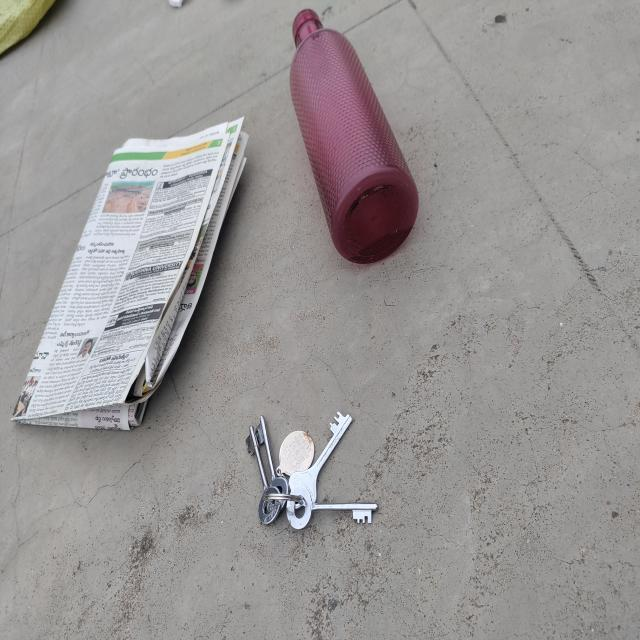metal: (238, 410, 379, 531)
paper: (10, 124, 239, 424)
plastic: (287, 5, 428, 266)
